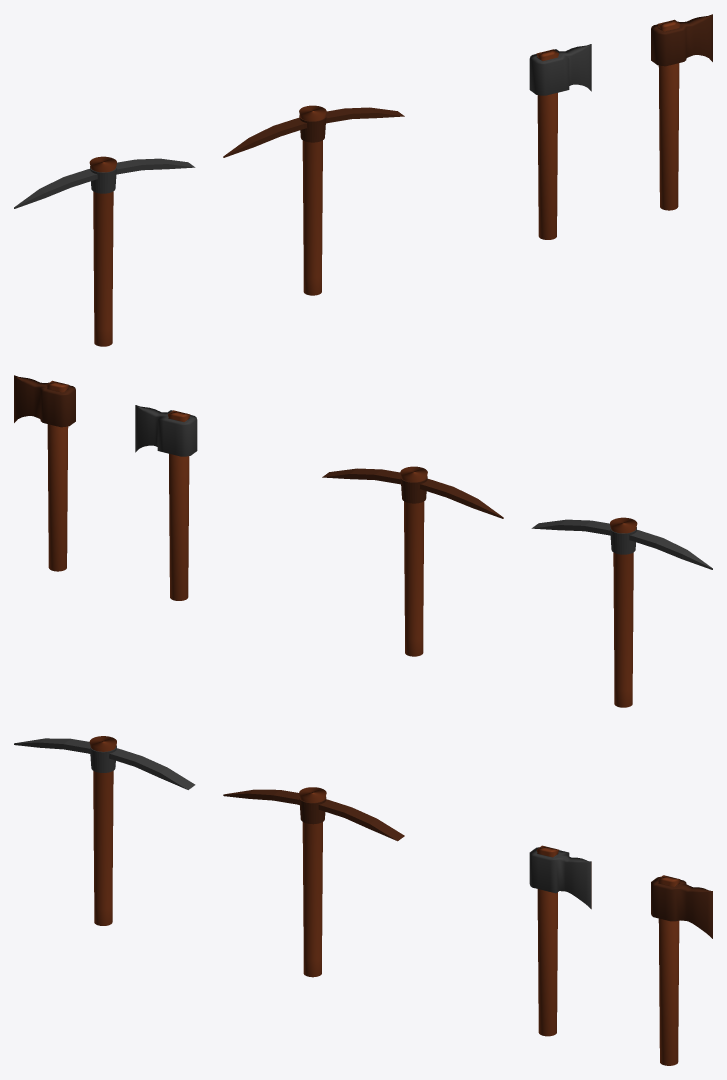
Rendered from SurvivalGameTools1.glb.
The picture shows the model from 3 angles, top to bottom: view 1: azimuth 30°, elevation 25°; view 2: azimuth 150°, elevation 25°; view 3: azimuth 330°, elevation 25°; orthographic projection.
Parts seen in each view (by area): view 1: Cylinder.002, Cylinder.003, Cylinder.001, Cylinder; view 2: Cylinder.002, Cylinder.003, Cylinder.001, Cylinder; view 3: Cylinder.002, Cylinder.003, Cylinder.001, Cylinder.
Part boxes in pixels (x1,y1,x2,y2): Cylinder.002: (223,105,404,295); Cylinder.003: (14,156,195,346); Cylinder.001: (529,44,591,239); Cylinder: (651,14,712,210); Cylinder.002: (322,466,503,656); Cylinder.003: (531,517,712,707); Cylinder.001: (135,405,197,600); Cylinder: (14,375,75,571); Cylinder.002: (223,787,404,977); Cylinder.003: (14,736,195,925); Cylinder.001: (529,845,591,1036); Cylinder: (651,875,712,1065).
Size of the model in its own units: 21.95 by 5.49 by 0.7501.
